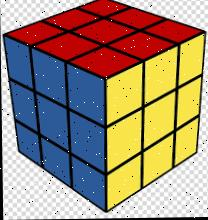cube: (4, 0, 208, 213)
